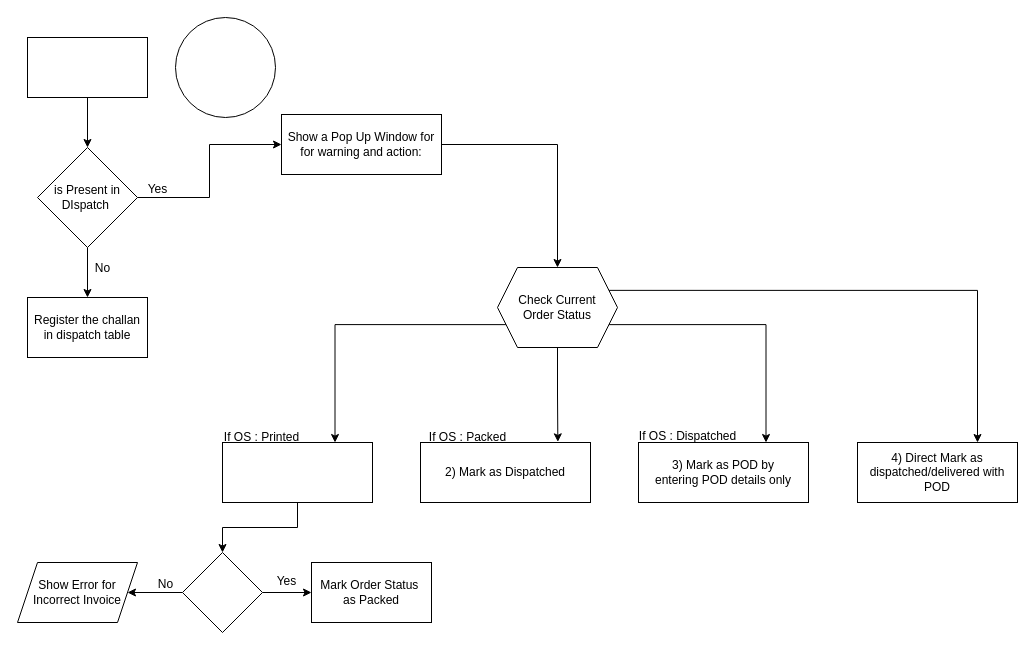
Some shapes in this 1035 by 650 pixel diagram are drawn without their labels. The shapes that lost their labels are listed below. From the top down, each one's box as (x1, y1, x2, y2) in pixels, then its label:
(26, 36, 148, 98): Challan is Printed/Scanned
(174, 16, 276, 118): Sync Process Dipsatch ~ mdis
(222, 442, 372, 502): 1) Mark as Packed: Request to Scan Invoice
(182, 552, 262, 632): Check Correct Invoice
